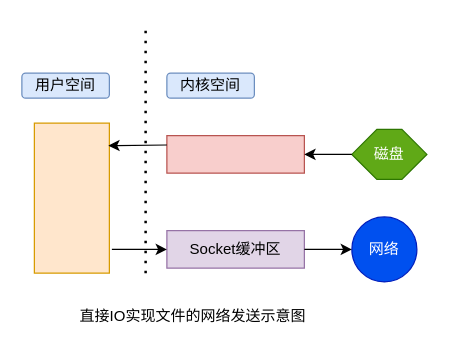
Image size: 449x356. Some labels were removed from this diagram. The shapes that lost their labels are listed below. From the top down, each one's centre as x and y in pixels, then its label:
At (x=235, y=153): "内核缓冲区 （Page Cache）".
At (x=71, y=197): "应用程序内存".
